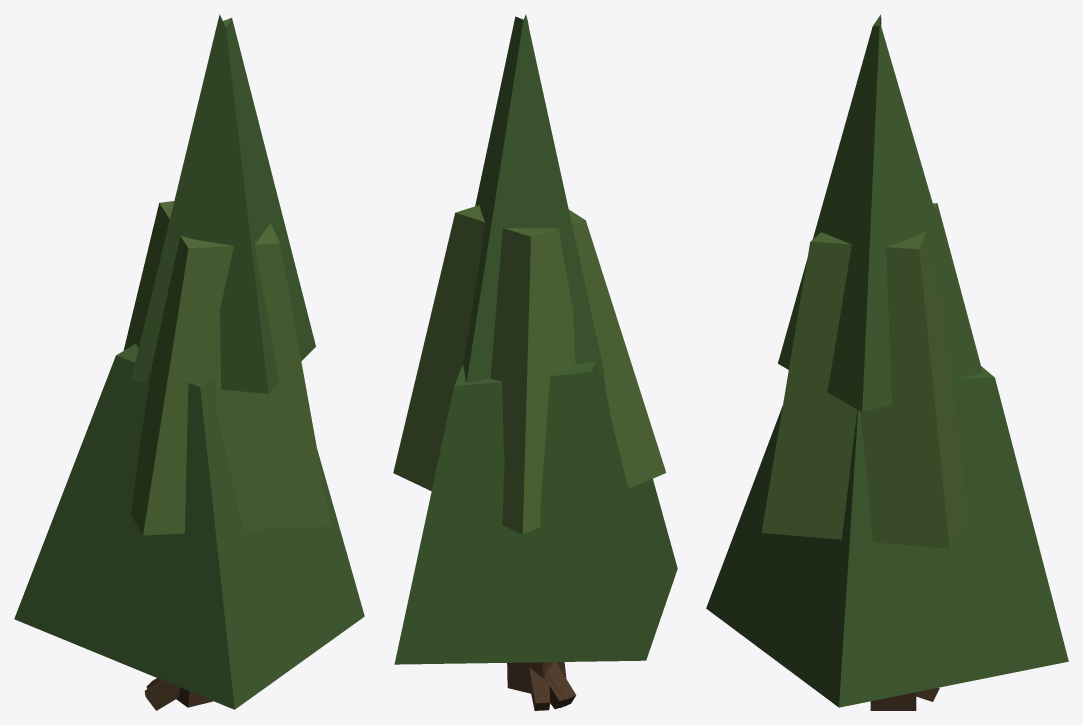
File: tree_pine_c.glb
The picture shows the model from 3 angles, left to right: view 1: azimuth 30°, elevation 25°; view 2: azimuth 150°, elevation 25°; view 3: azimuth 270°, elevation 25°; orthographic projection. The views are drawn at different scales.
Visible parts, largest first — view 1: skirt, skirt.001, skirt.002, root.002; view 2: skirt, skirt.001, skirt.002, Cube, root, root.001; view 3: skirt, skirt.001, skirt.002, Cube.
Boxes of the visible parts, bbox=[...] form: skirt: bbox=[14, 343, 364, 709]; skirt.001: bbox=[123, 201, 330, 535]; skirt.002: bbox=[131, 14, 315, 393]; root.002: bbox=[145, 680, 180, 710]; skirt: bbox=[394, 361, 677, 664]; skirt.001: bbox=[393, 205, 666, 534]; skirt.002: bbox=[463, 14, 604, 382]; Cube: bbox=[507, 662, 566, 693]; root: bbox=[529, 667, 550, 710]; root.001: bbox=[544, 662, 571, 709]; skirt: bbox=[706, 365, 1068, 707]; skirt.001: bbox=[761, 203, 980, 548]; skirt.002: bbox=[778, 14, 981, 412]; Cube: bbox=[870, 692, 916, 710].
Bounding box in the file's own units: 48.09 × 110 × 51.11.
